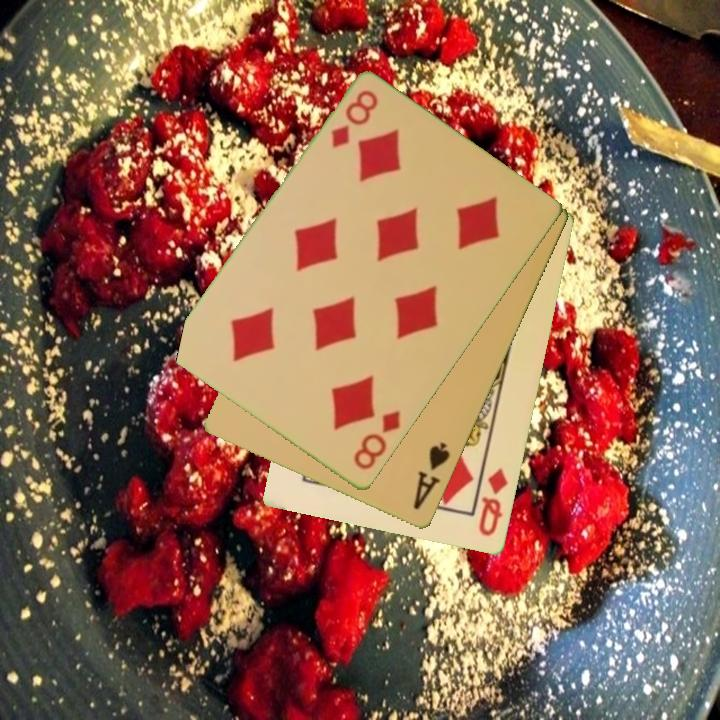8d: (350, 407, 404, 474), (327, 87, 382, 152)
As: (409, 439, 453, 513)
Qd: (475, 465, 511, 540)
